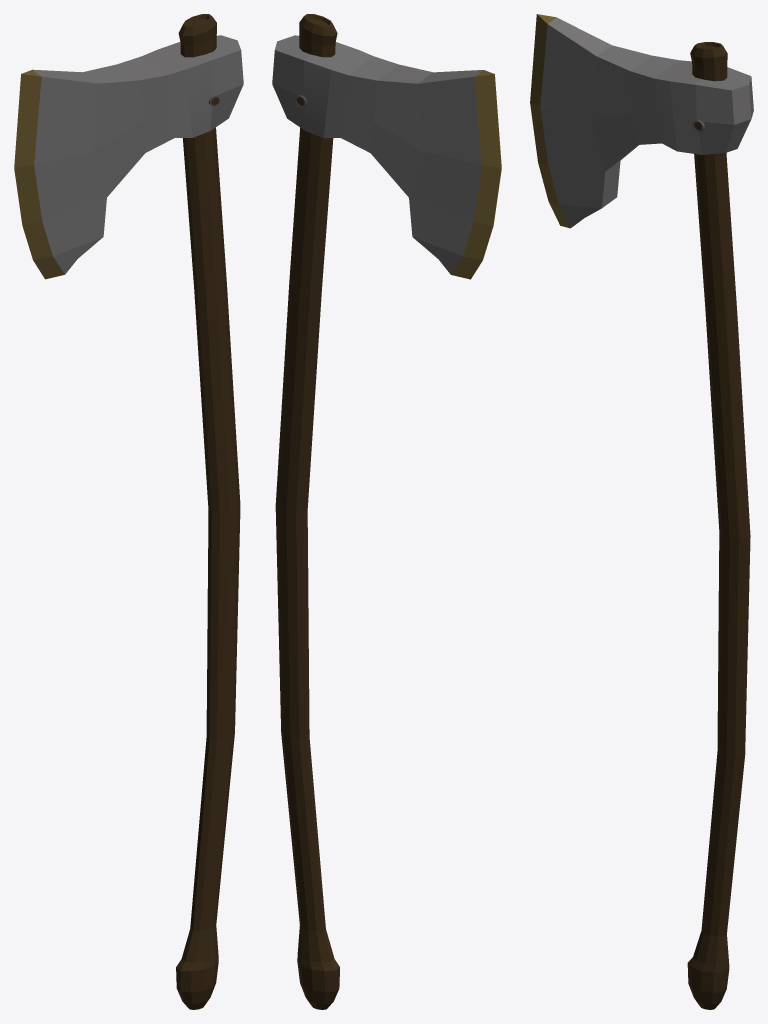
File: splitting-maul.glb
3 renders of one model, left to right at view 1: azimuth 30°, elevation 25°; view 2: azimuth 150°, elevation 25°; view 3: azimuth 330°, elevation 25°, orthographic. The views are drawn at different scales.
Parts seen in each view (by area): view 1: 2H - Splitting Maul - Proxy Games; view 2: 2H - Splitting Maul - Proxy Games; view 3: 2H - Splitting Maul - Proxy Games.
Boxes of the visible parts, box(x1,y1,x2,y2) form: 2H - Splitting Maul - Proxy Games: box(14, 14, 243, 1009); 2H - Splitting Maul - Proxy Games: box(272, 14, 501, 1009); 2H - Splitting Maul - Proxy Games: box(530, 14, 753, 1009).
Bounding box in the file's own units: 0.3665 × 1.53 × 0.0819.
